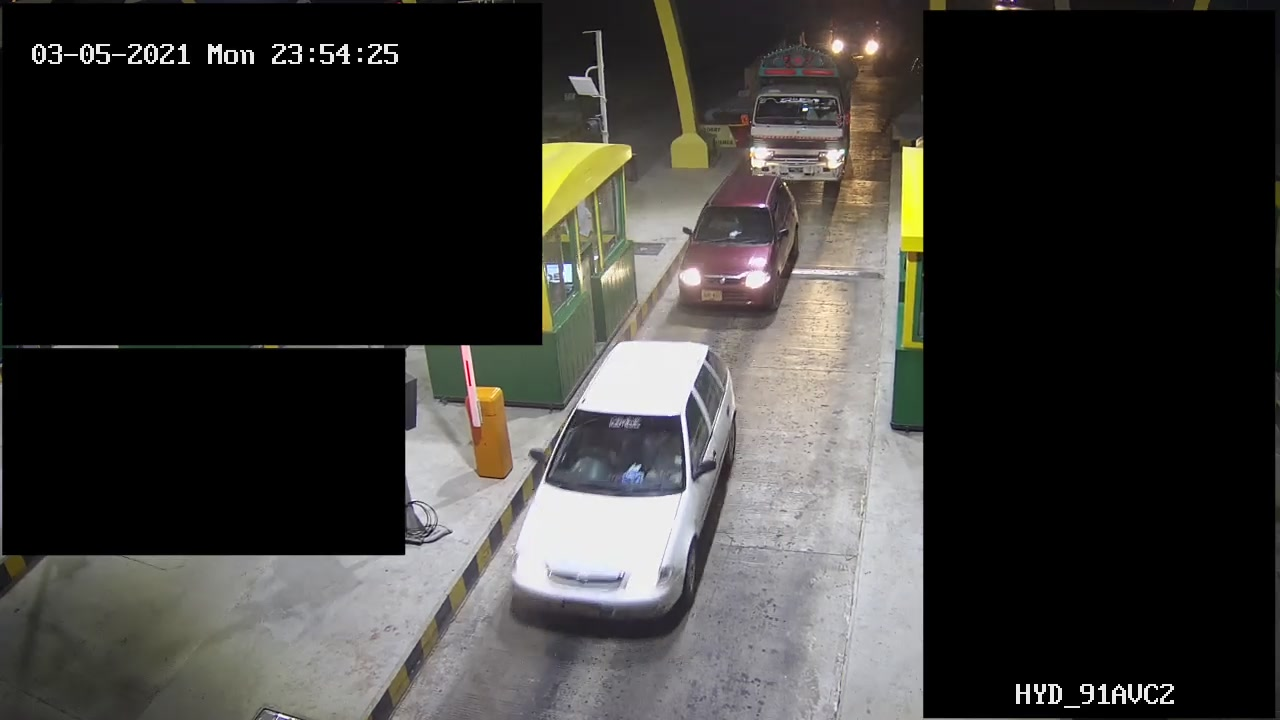F1: (495, 339, 754, 631), (668, 174, 803, 317)
